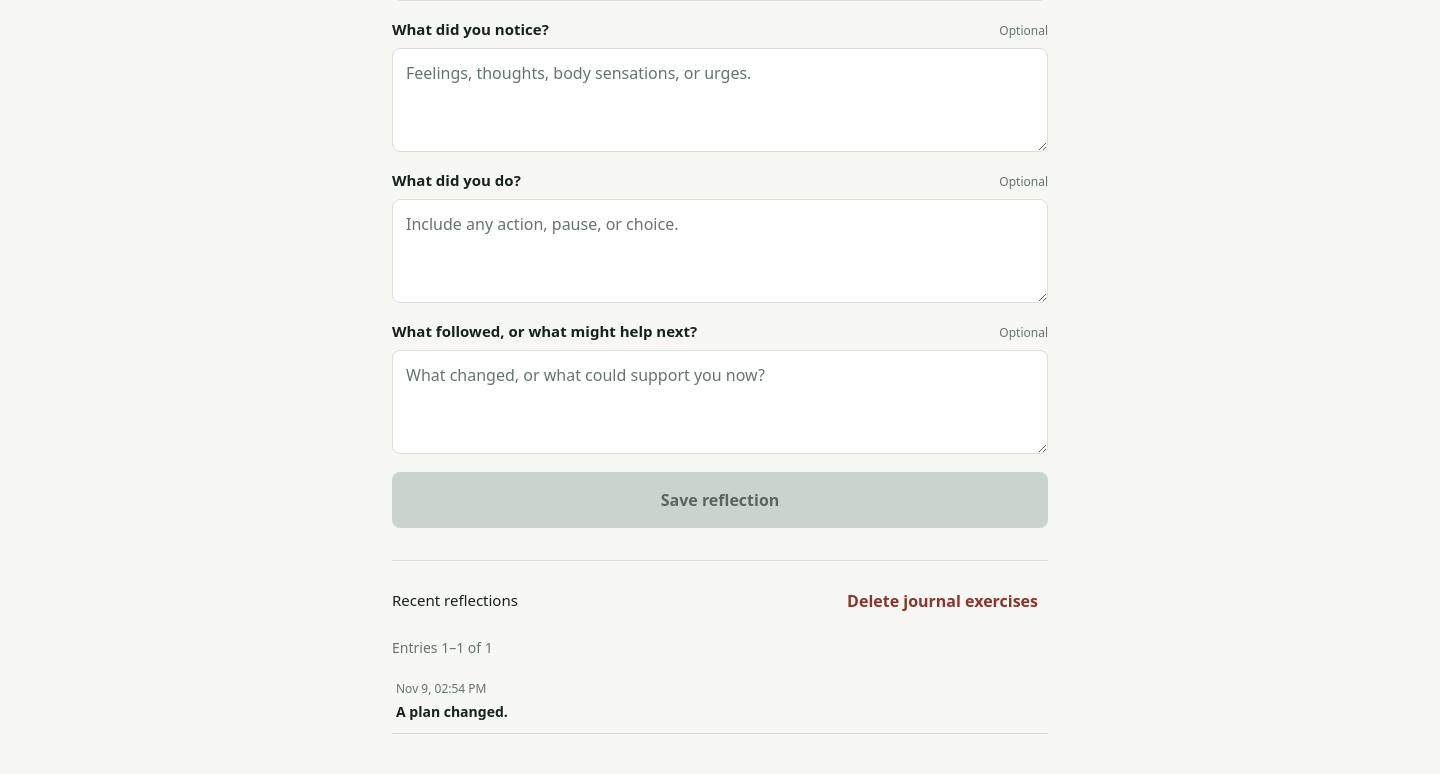
Scenario: ChainAnalysis › keeps the confirmation and existing entries when deletion fails
(page scrolled)
Click the button "Delete journal exercises".
click(943, 601)  # box [837,577,1048,625]
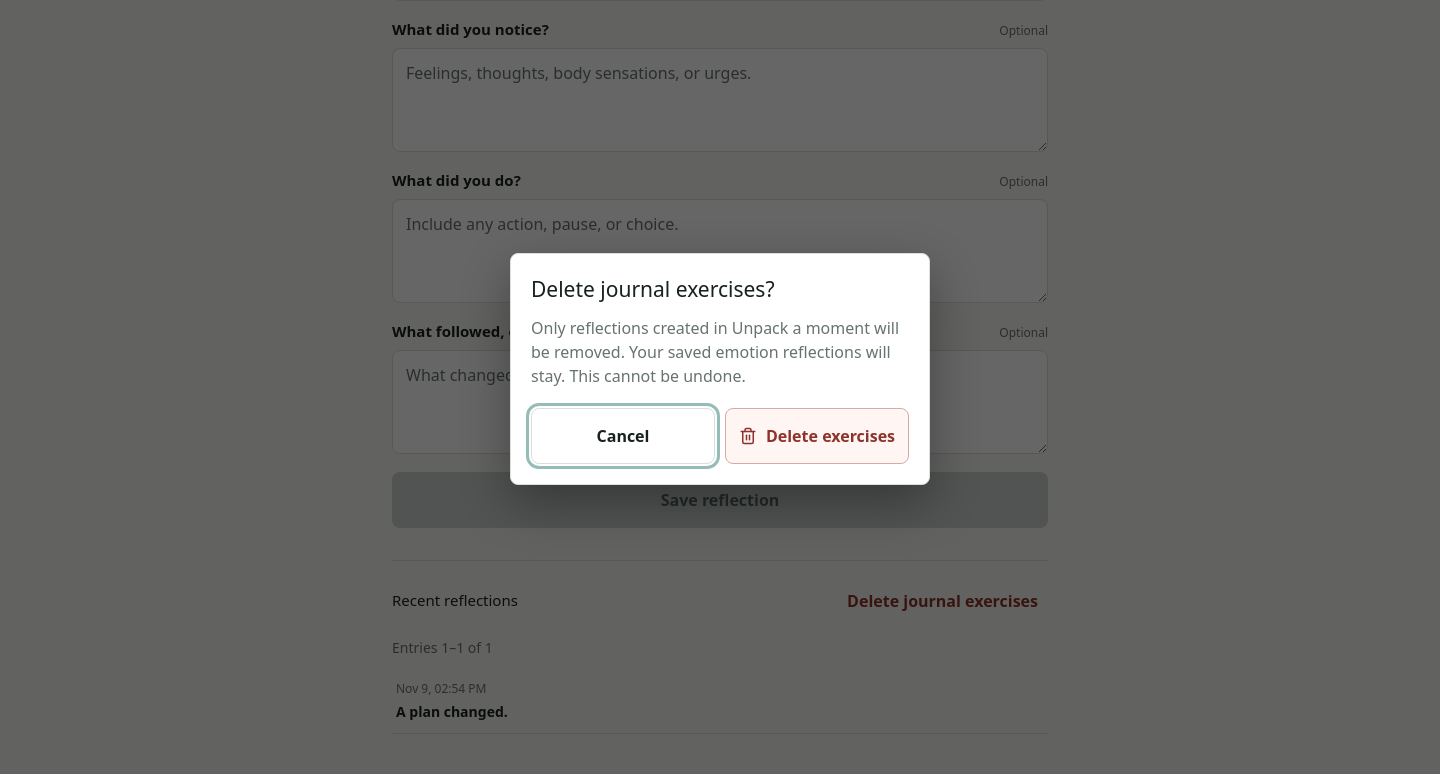
Click the button "Delete exercises".
click(817, 436)  # box [725,408,909,464]
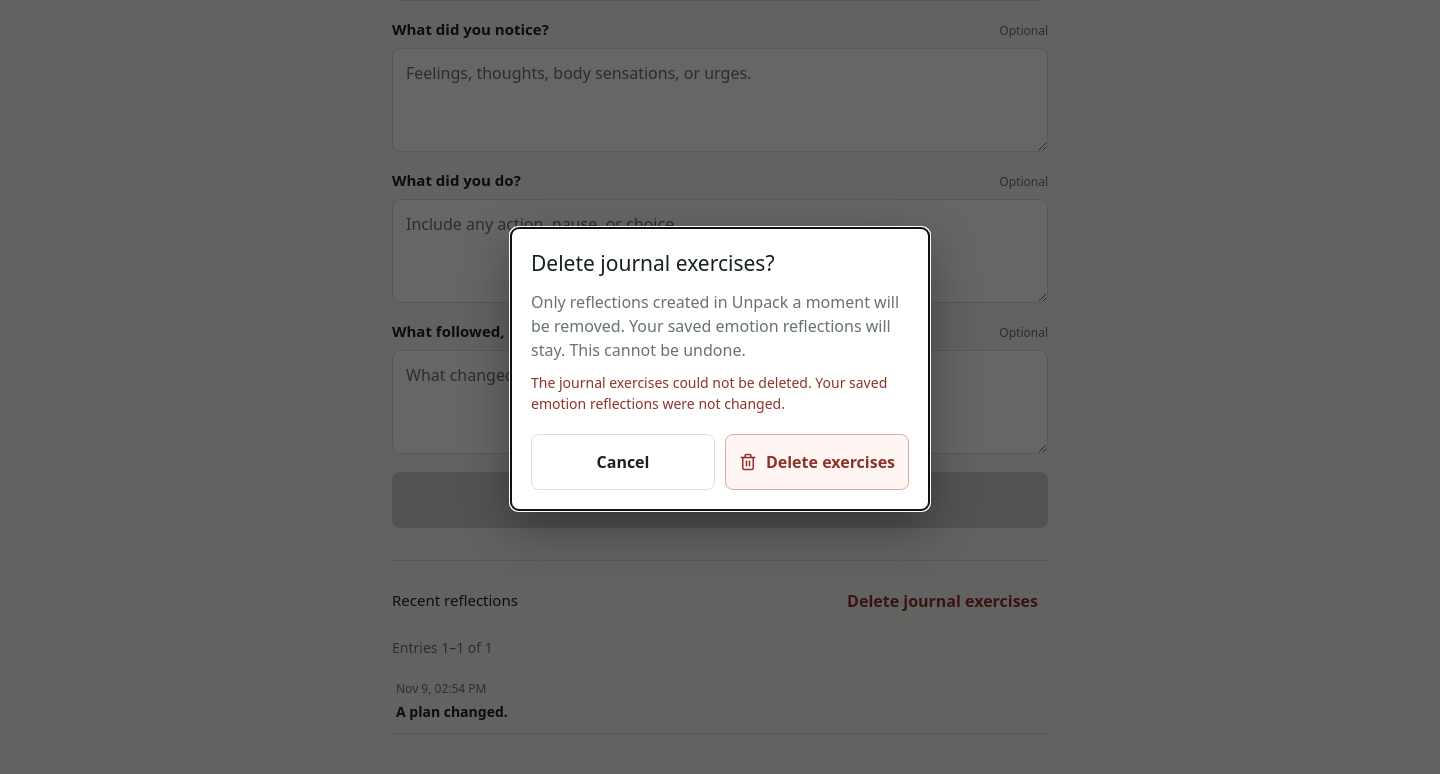
Expected: the text "A plan changed." is shown, [396,702,508,721]
Expected: the dialog "Delete journal exercises?" is shown, [510,227,930,511]
Expected: the message shows "The journal exercises could not be deleted. Your saved emotion reflections were not changed.", [531,373,887,413]
